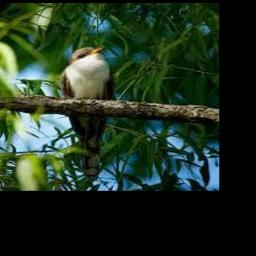Cuckoo: (61, 45, 113, 178)
